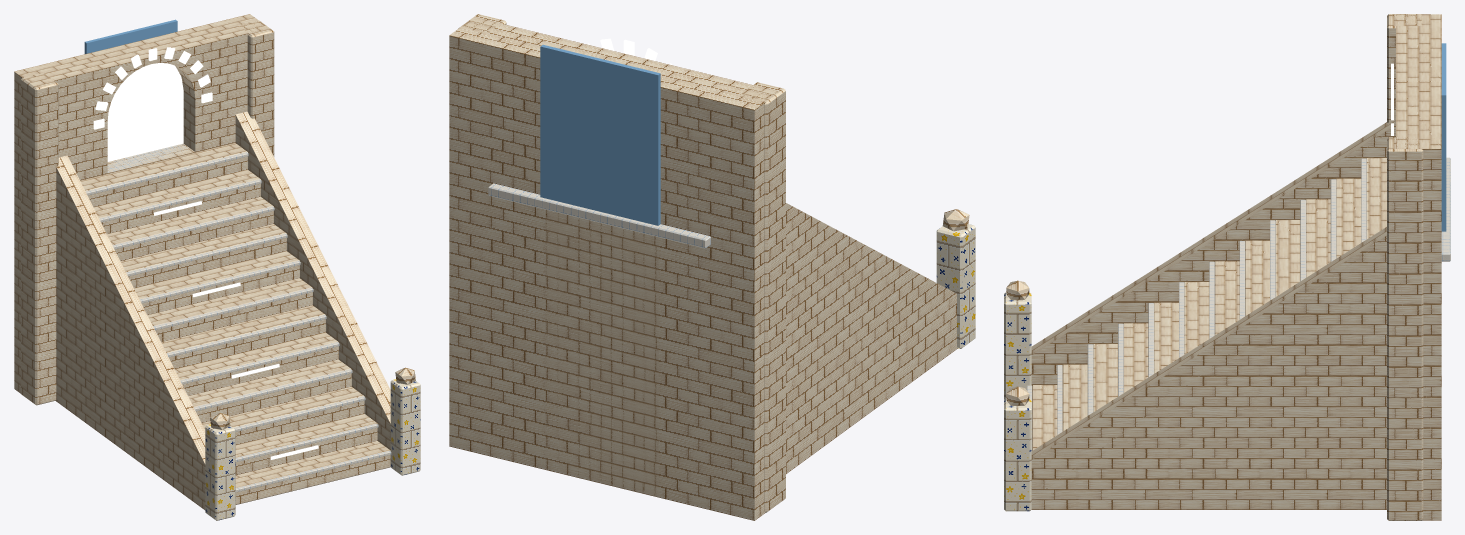
The model's file is tower_stairs.glb.
3 views of the same model, side by side, from view 1: azimuth 30°, elevation 25°; view 2: azimuth 150°, elevation 25°; view 3: azimuth 270°, elevation 25° (orthographic). The views are drawn at different scales.
Parts seen in each view (by area): view 1: Stairs, Glow; view 2: Stairs; view 3: Stairs.
Part boxes in pixels (x1,y1,x2,y2): Stairs: [14, 14, 420, 520]; Glow: [93, 47, 318, 459]; Stairs: [449, 14, 975, 520]; Stairs: [1004, 14, 1450, 520].
Size of the model in its own units: 7.1 by 9.3 by 9.8.
6 materials, 3 textured.
